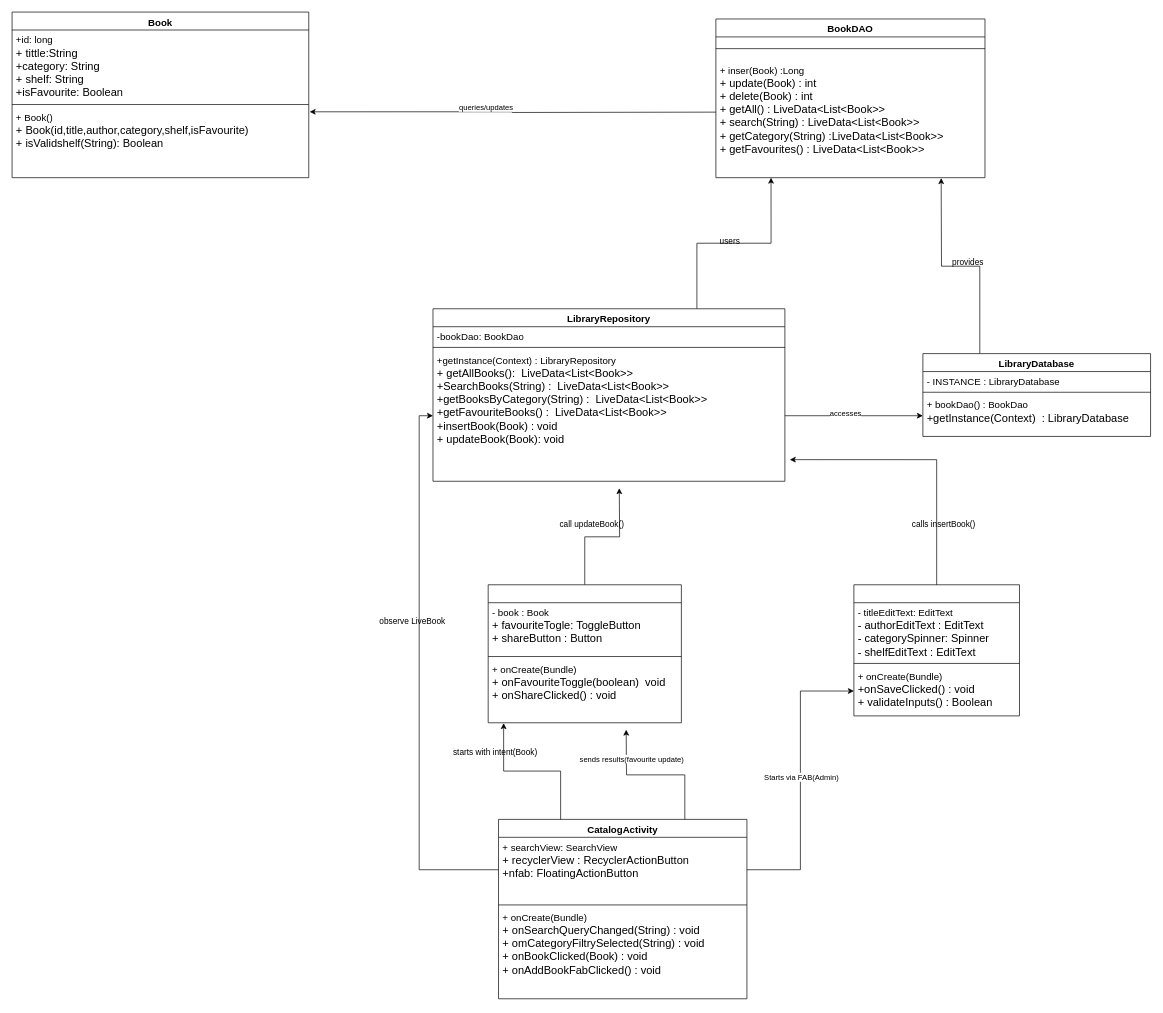
Image size: 1163x1013. Some labels were removed from this diagram. Here are the shapes that lost their labels. From the top down, the box of each, then its label:
(487, 584, 681, 723): BookDetailsActivity
(853, 584, 1019, 716): AddBookActivity
